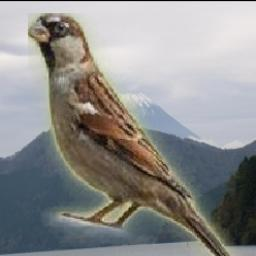Sparrow: (28, 14, 243, 256)
